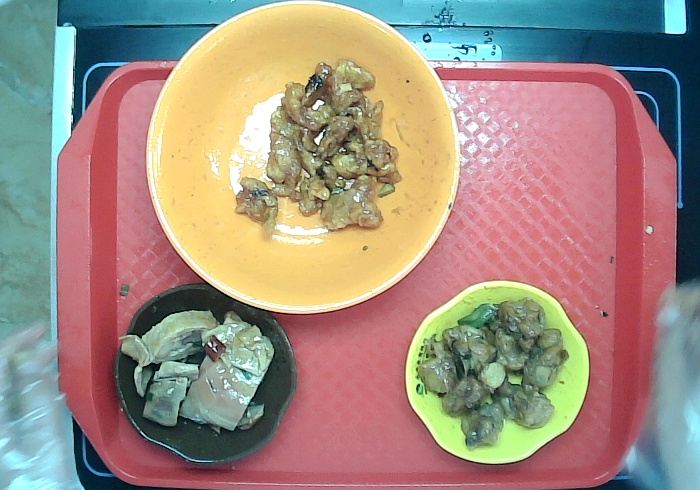YKMZ-Huang_Se_Ao_Bian_Wan: (402, 276, 592, 466)
YKMZ-Ju_Se_Tang_Wan: (141, 1, 463, 316)
YKMZ-Ka_Fei_Ao_Bian_Wan: (111, 280, 299, 467)
